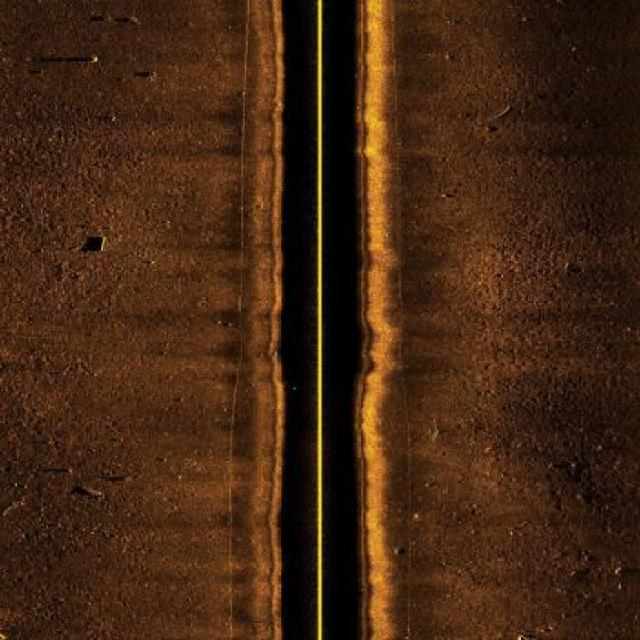mine: (78, 232, 108, 254)
